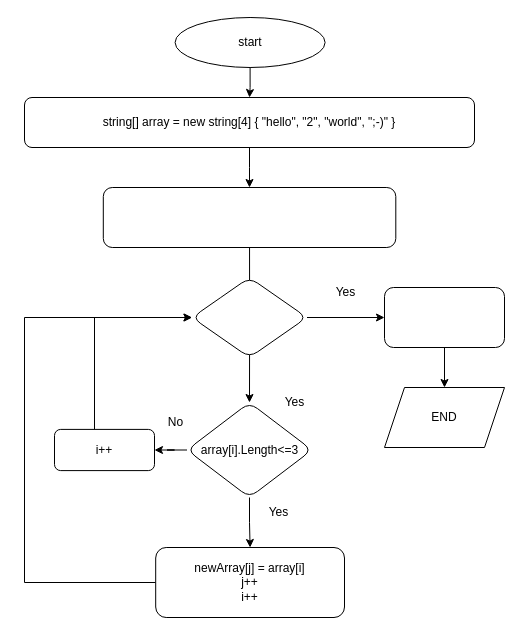
The diagram is 522 pixels wide and 635 high, and some of its shapes have lost their labels. The centre of each missing label's shape, as x and y in pixels:
"i < array.Lenght" goes at (249,317).
"i=0 j=0 string[] newArray = new string[array.Length" goes at (249,217).
"Print newArray" goes at (444,317).
